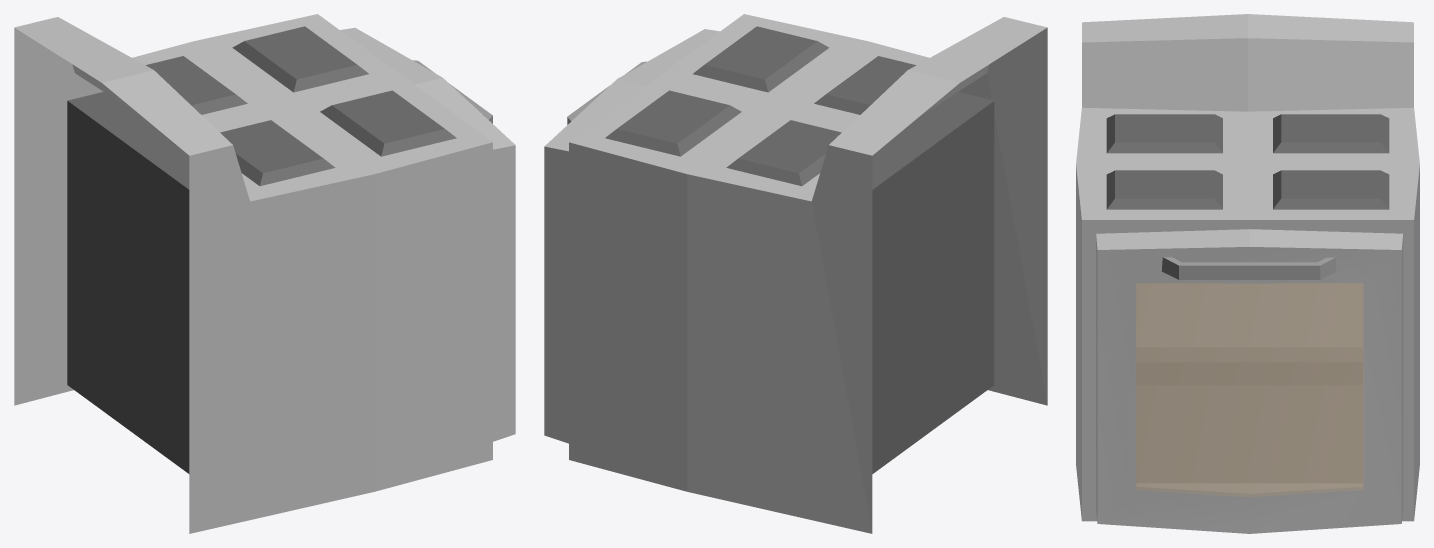
Rendered from Oven_Mesh.fbx.
3 renders of one model, left to right at view 1: azimuth 30°, elevation 25°; view 2: azimuth 150°, elevation 25°; view 3: azimuth 270°, elevation 25°, orthographic. The views are drawn at different scales.
Parts seen in each view (by area): view 1: Oven, OvenDoor; view 2: Oven, OvenDoor; view 3: Oven, OvenDoor.
Boxes of the visible parts, x1=… form: Oven: x1=14, y1=14, x2=492, y2=533; OvenDoor: x1=340, y1=27, x2=515, y2=441; Oven: x1=569, y1=14, x2=1047, y2=533; OvenDoor: x1=544, y1=29, x2=719, y2=443; Oven: x1=1076, y1=14, x2=1419, y2=521; OvenDoor: x1=1096, y1=229, x2=1403, y2=533.
Bounding box in the file's own units: 4.67 × 4.87 × 4.14.
